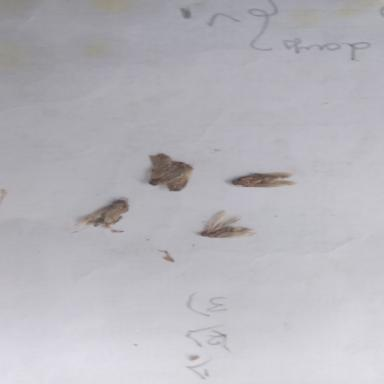pbw: (78, 197, 131, 231), (198, 210, 253, 237), (144, 152, 190, 184), (230, 171, 296, 187), (166, 178, 188, 191)
